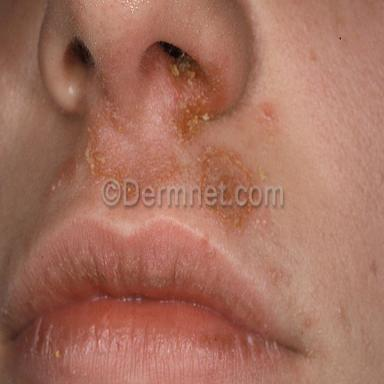Impetigo: (85, 121, 180, 185), (172, 54, 223, 145), (193, 148, 255, 187), (205, 207, 253, 234)
